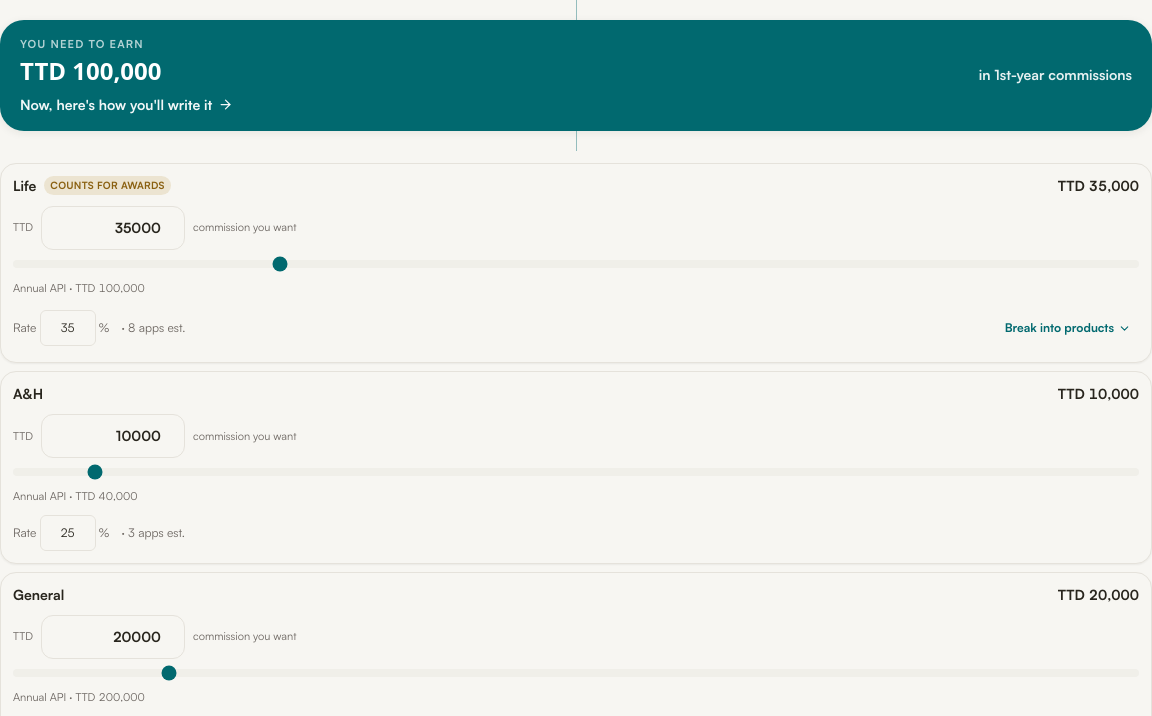
MoneyNeedsAllocator — commission-first input model › type commission → API derives (commission ÷ rate) and the slider label updates
Replace the text in the number field with test id "alloc-line-commission-input-life" with "70000" at (113, 228), box [41,206,185,250]
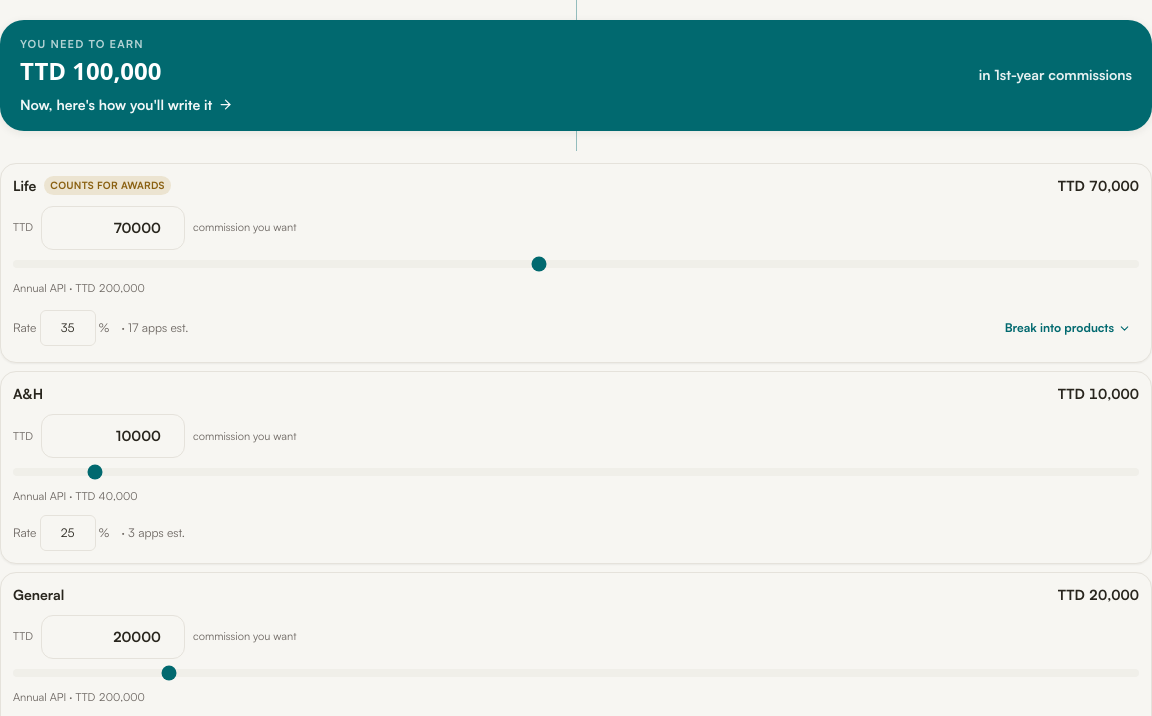
Expected: the text "Annual API · TTD 200,000" below "Counts for awards" is shown, [75,280,145,294]
Expected: the text "TTD 70,000" is shown, [1058,176,1139,196]
